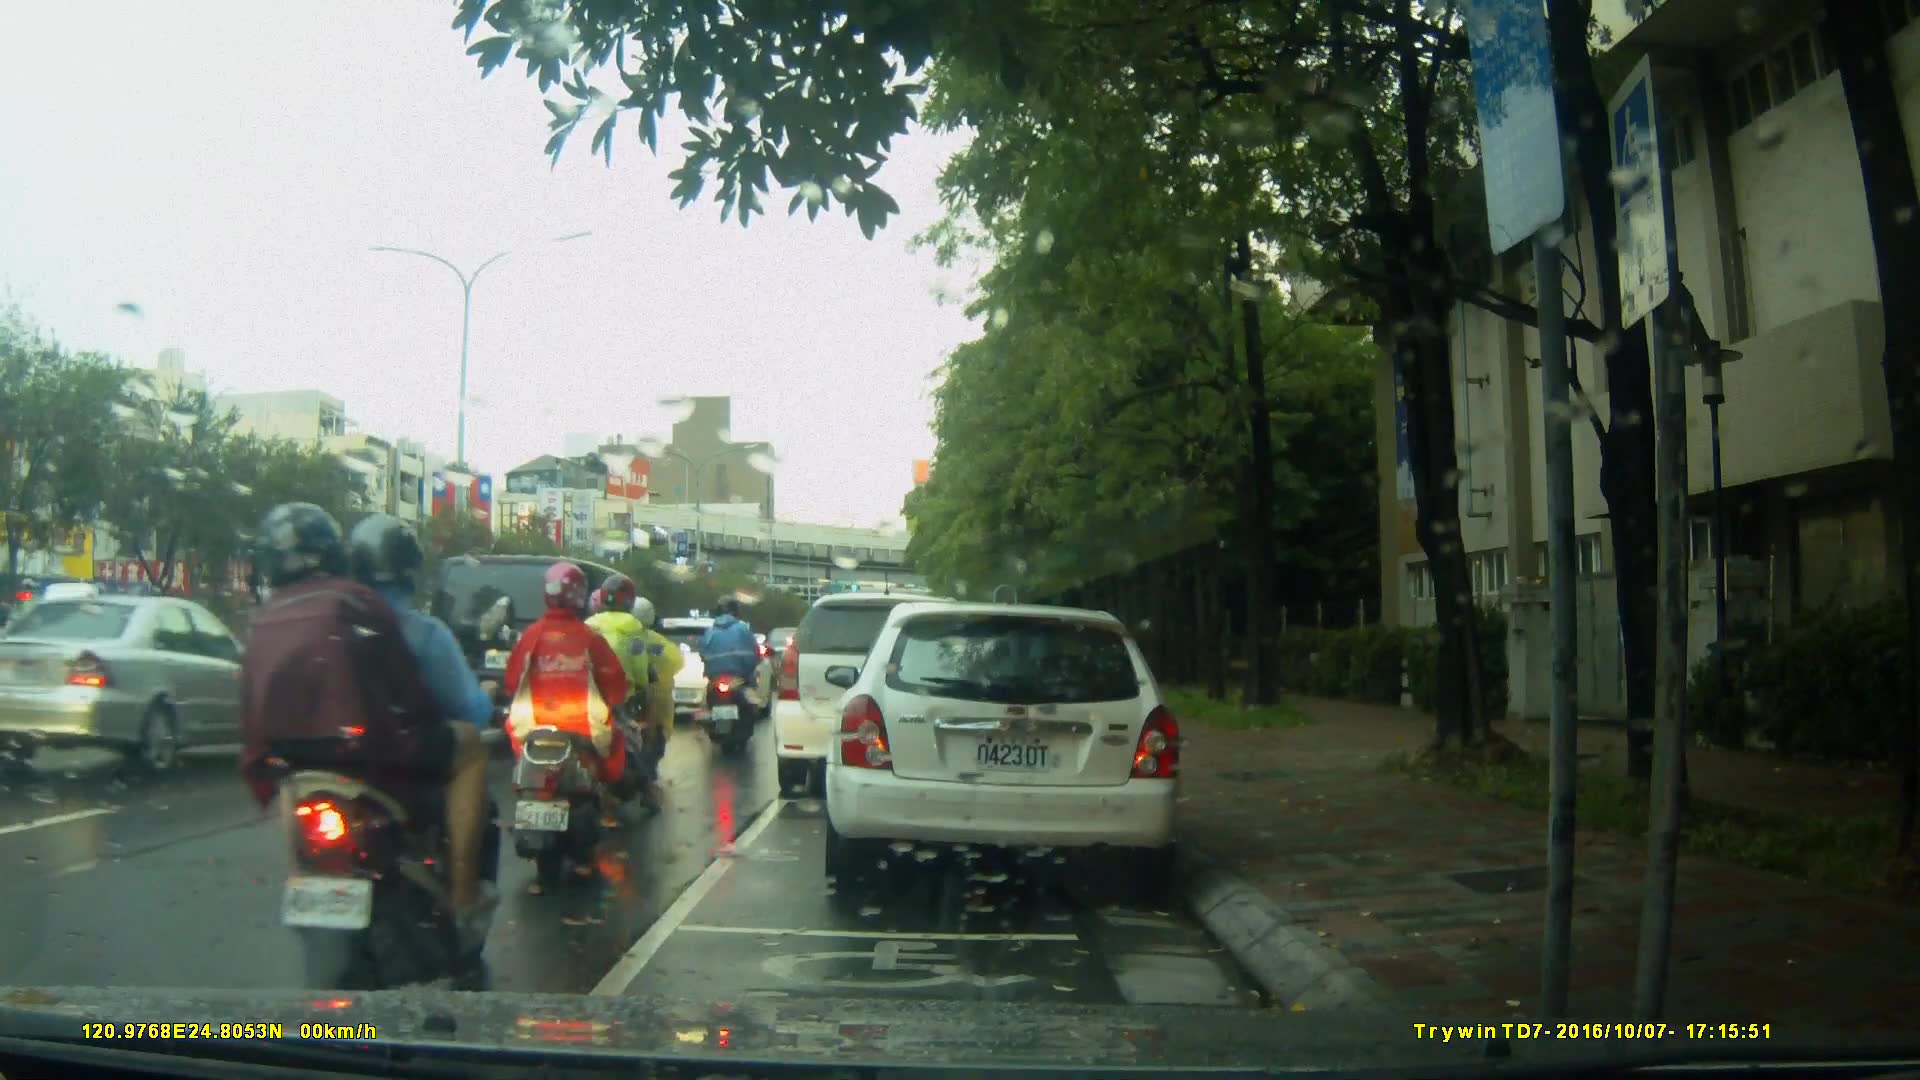rider: (251, 505, 502, 992), (500, 558, 636, 887), (293, 575, 430, 784), (573, 571, 675, 818), (608, 596, 684, 790), (695, 593, 763, 750)
vehicle: (822, 604, 1188, 883), (1, 592, 309, 779), (424, 553, 662, 751), (774, 595, 995, 802)
